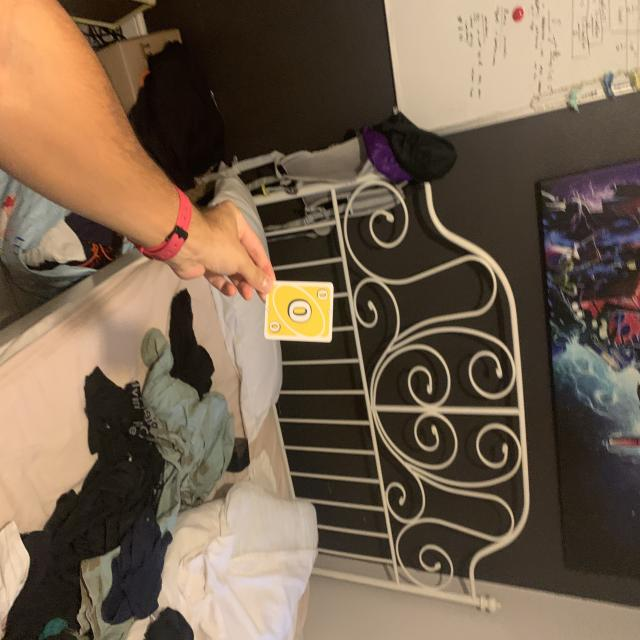lyellow-0: (312, 284, 331, 304)
